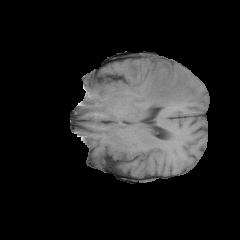glioma: (128, 58, 197, 107)
